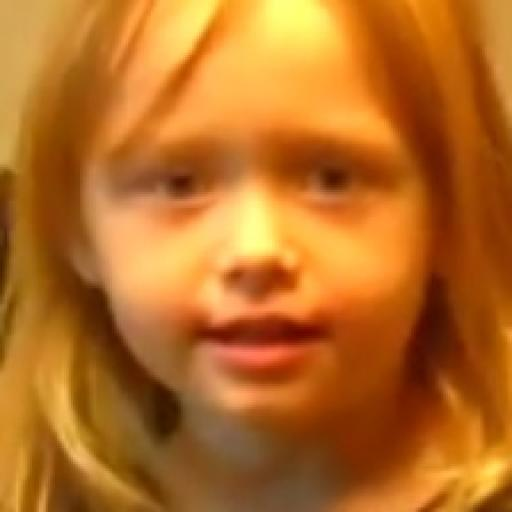Autism: (54, 0, 512, 465)
